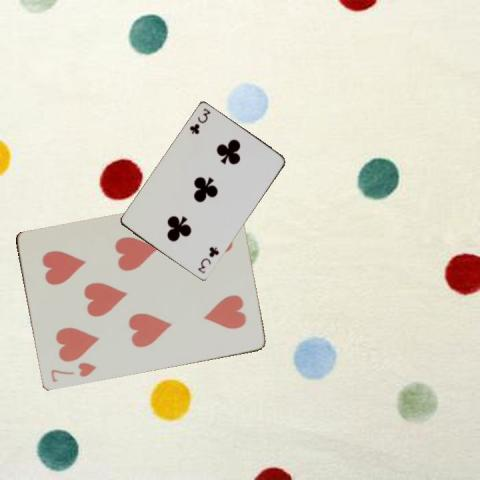3c: (195, 244, 221, 275), (187, 105, 212, 136)
7h: (47, 359, 98, 384)
